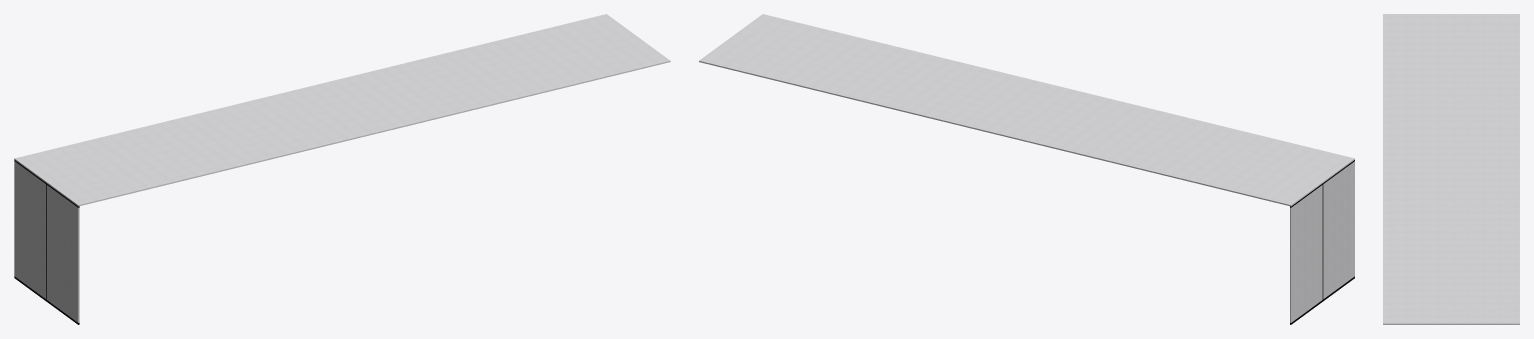
File: rear-top-drywall.glb
The picture shows the model from 3 angles, left to right: view 1: azimuth 30°, elevation 25°; view 2: azimuth 150°, elevation 25°; view 3: azimuth 270°, elevation 25°; orthographic projection. The views are drawn at different scales.
Visible parts, largest first — view 1: Obj_40FT Blank_Drywall_Reartop_3, Obj_40FT Blank_Drywall_Reartop_8, Obj_40FT Blank_Drywall_Reartop_7, Obj_40FT Blank_Drywall_Reartop_4, Obj_40FT Blank_Drywall_Reartop_9, Obj_40FT Blank_Drywall_Reartop_5, Obj_40FT Blank_Drywall_Reartop_6, Obj_40FT Blank_Drywall_Reartop_2, Obj_40FT Blank_Drywall_Reartop_1, 40FT Blank_Drywall_Reartop; view 2: Obj_40FT Blank_Drywall_Reartop_3, Obj_40FT Blank_Drywall_Reartop_8, Obj_40FT Blank_Drywall_Reartop_7, Obj_40FT Blank_Drywall_Reartop_5, Obj_40FT Blank_Drywall_Reartop_6, Obj_40FT Blank_Drywall_Reartop_4, Obj_40FT Blank_Drywall_Reartop_9, Obj_40FT Blank_Drywall_Reartop_2, 40FT Blank_Drywall_Reartop, Obj_40FT Blank_Drywall_Reartop_1, Obj_40FT Blank_Drywall_Reartop; view 3: Obj_40FT Blank_Drywall_Reartop_2, Obj_40FT Blank_Drywall_Reartop_7, Obj_40FT Blank_Drywall_Reartop_8, Obj_40FT Blank_Drywall_Reartop_9, Obj_40FT Blank_Drywall_Reartop_3, Obj_40FT Blank_Drywall_Reartop_4, Obj_40FT Blank_Drywall_Reartop_5, Obj_40FT Blank_Drywall_Reartop_6.
Part boxes in pixels (x1=…): Obj_40FT Blank_Drywall_Reartop_3: x1=14, y1=140, x2=152, y2=206; Obj_40FT Blank_Drywall_Reartop_8: x1=163, y1=104, x2=301, y2=170; Obj_40FT Blank_Drywall_Reartop_7: x1=312, y1=68, x2=449, y2=133; Obj_40FT Blank_Drywall_Reartop_4: x1=89, y1=122, x2=226, y2=188; Obj_40FT Blank_Drywall_Reartop_9: x1=238, y1=86, x2=375, y2=151; Obj_40FT Blank_Drywall_Reartop_5: x1=386, y1=50, x2=523, y2=115; Obj_40FT Blank_Drywall_Reartop_6: x1=460, y1=32, x2=597, y2=97; Obj_40FT Blank_Drywall_Reartop_2: x1=534, y1=14, x2=670, y2=79; Obj_40FT Blank_Drywall_Reartop_1: x1=46, y1=185, x2=79, y2=322; 40FT Blank_Drywall_Reartop: x1=14, y1=161, x2=45, y2=298; Obj_40FT Blank_Drywall_Reartop_3: x1=1216, y1=140, x2=1354, y2=206; Obj_40FT Blank_Drywall_Reartop_8: x1=1068, y1=104, x2=1205, y2=170; Obj_40FT Blank_Drywall_Reartop_7: x1=919, y1=68, x2=1057, y2=133; Obj_40FT Blank_Drywall_Reartop_5: x1=845, y1=50, x2=982, y2=115; Obj_40FT Blank_Drywall_Reartop_6: x1=771, y1=31, x2=908, y2=97; Obj_40FT Blank_Drywall_Reartop_4: x1=1142, y1=122, x2=1279, y2=188; Obj_40FT Blank_Drywall_Reartop_9: x1=994, y1=86, x2=1131, y2=151; Obj_40FT Blank_Drywall_Reartop_2: x1=699, y1=14, x2=834, y2=79; 40FT Blank_Drywall_Reartop: x1=1290, y1=185, x2=1322, y2=322; Obj_40FT Blank_Drywall_Reartop_1: x1=1323, y1=161, x2=1354, y2=298; Obj_40FT Blank_Drywall_Reartop: x1=1290, y1=160, x2=1354, y2=324; Obj_40FT Blank_Drywall_Reartop_2: x1=1383, y1=285, x2=1519, y2=324; Obj_40FT Blank_Drywall_Reartop_7: x1=1383, y1=169, x2=1519, y2=208; Obj_40FT Blank_Drywall_Reartop_8: x1=1383, y1=91, x2=1519, y2=130; Obj_40FT Blank_Drywall_Reartop_9: x1=1383, y1=130, x2=1519, y2=169; Obj_40FT Blank_Drywall_Reartop_3: x1=1383, y1=14, x2=1519, y2=52; Obj_40FT Blank_Drywall_Reartop_4: x1=1383, y1=53, x2=1519, y2=91; Obj_40FT Blank_Drywall_Reartop_5: x1=1383, y1=208, x2=1519, y2=246; Obj_40FT Blank_Drywall_Reartop_6: x1=1383, y1=247, x2=1519, y2=285.
Bounding box in the file's own units: 11.9 × 2.3 × 2.22.
2 materials, 1 textured.
